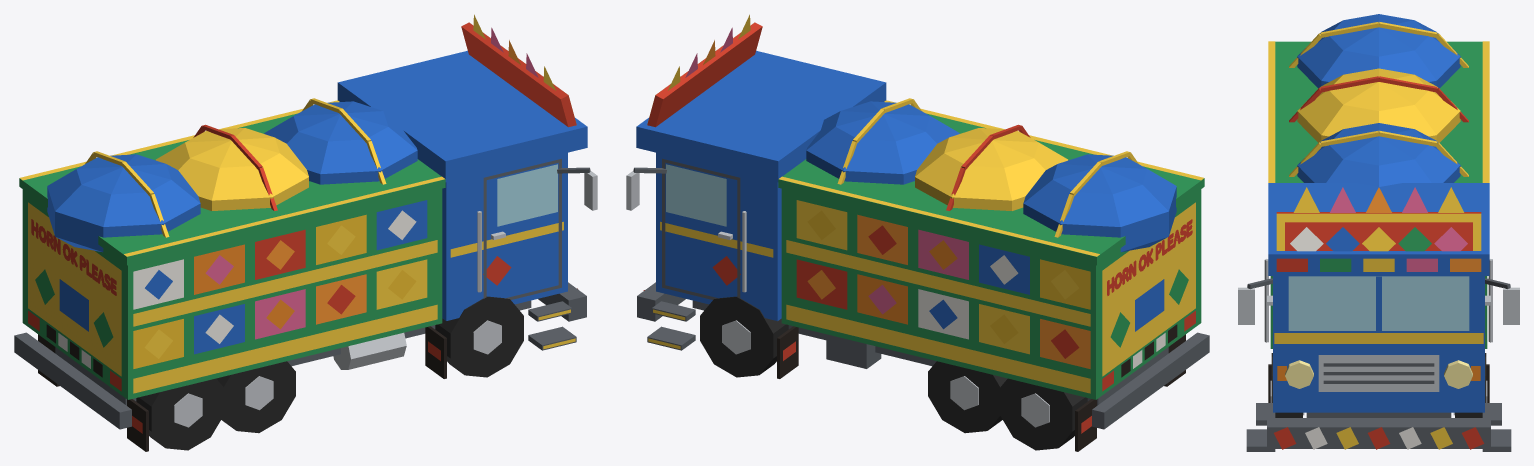
File: truck_green.glb
The picture shows the model from 3 angles, left to right: view 1: azimuth 30°, elevation 25°; view 2: azimuth 150°, elevation 25°; view 3: azimuth 270°, elevation 25°; orthographic projection. The views are drawn at different scales.
Visible parts, largest first — view 1: truck_green; view 2: truck_green; view 3: truck_green.
Boxes of the visible parts, bbox=[...] form: truck_green: bbox=[14, 14, 597, 451]; truck_green: bbox=[626, 14, 1209, 451]; truck_green: bbox=[1238, 14, 1519, 451].
Bounding box in the file's own units: 4.72 × 2.65 × 2.34.
Materials: 1 (1 with a texture image).
